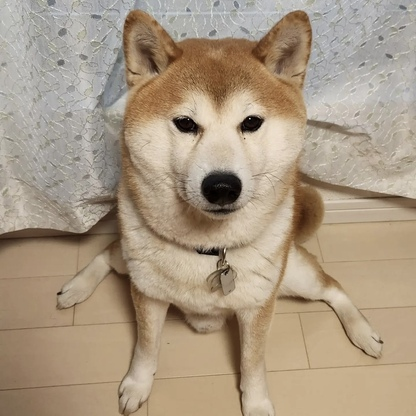shiba: (52, 5, 389, 416)
